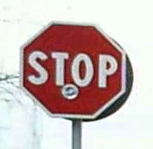stop: (20, 21, 129, 119)
